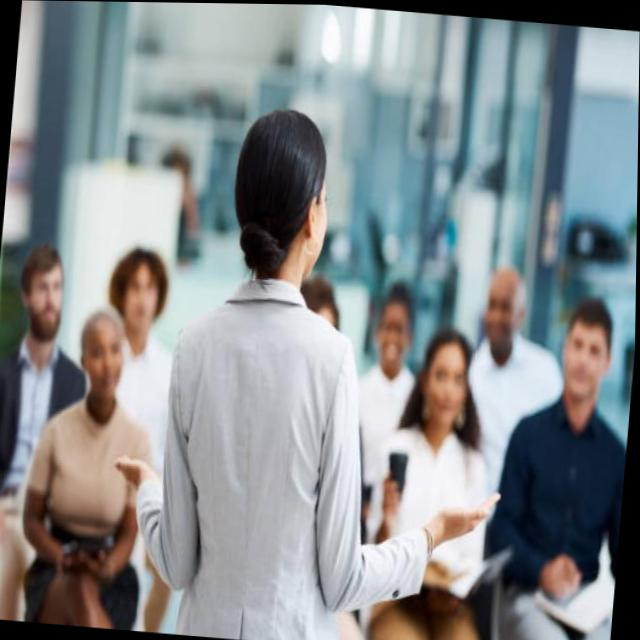no helmet: (203, 103, 367, 311)
